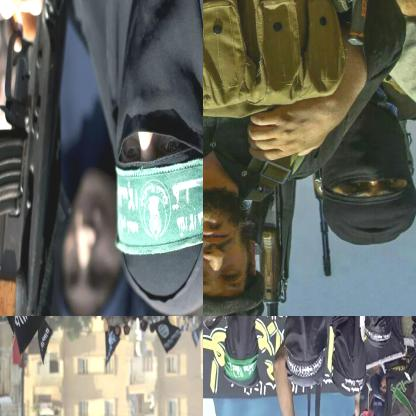rifle: (0, 0, 69, 315), (254, 189, 297, 315)
